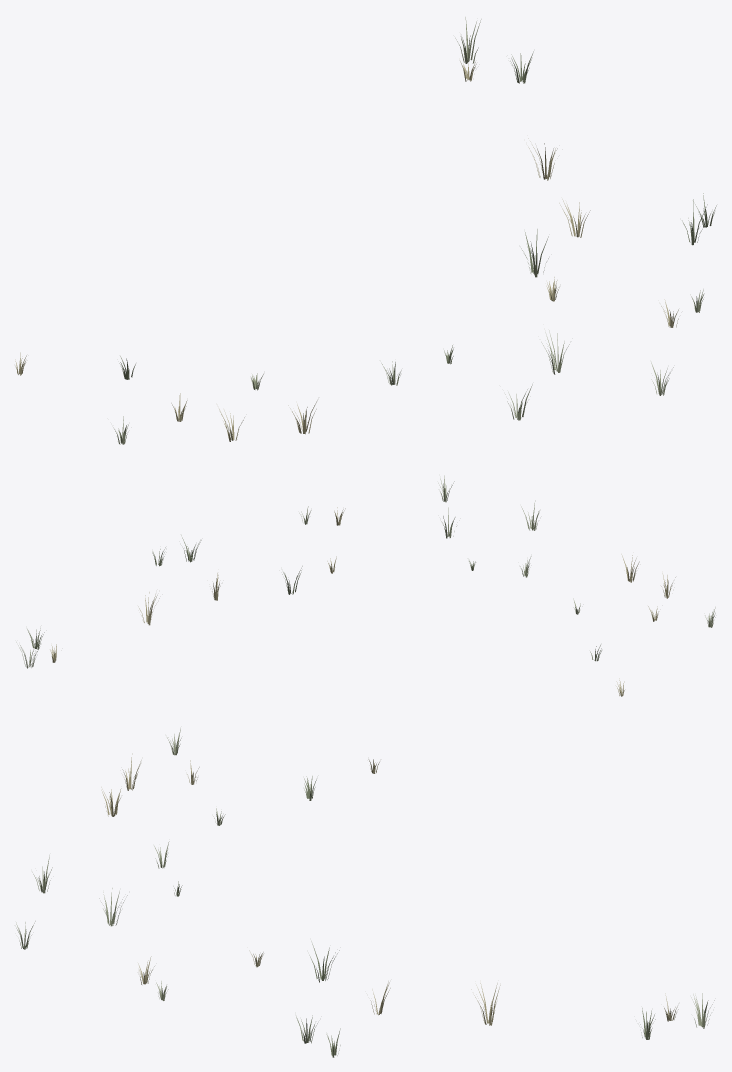
File: AE_Grass_-2_-3.fbx
The picture shows the model from 3 angles, top to bottom: view 1: azimuth 30°, elevation 25°; view 2: azimuth 150°, elevation 25°; view 3: azimuth 270°, elevation 25°; orthographic projection. The views are drawn at different scales.
Visible parts, largest first — view 1: AE_Grass_-2_-3_LOD0; view 2: AE_Grass_-2_-3_LOD0; view 3: AE_Grass_-2_-3_LOD0.
Boxes of the visible parts, bbox=[...] form: AE_Grass_-2_-3_LOD0: bbox=[15, 17, 716, 444]; AE_Grass_-2_-3_LOD0: bbox=[16, 475, 715, 696]; AE_Grass_-2_-3_LOD0: bbox=[16, 728, 714, 1057].
Size of what is drawn, in the model's own units: 1638 by 138 by 1625.
